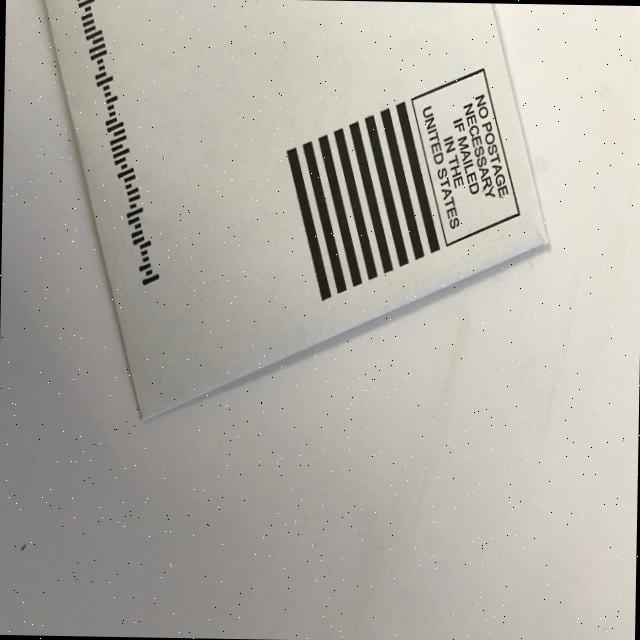paper: (34, 0, 554, 428)
